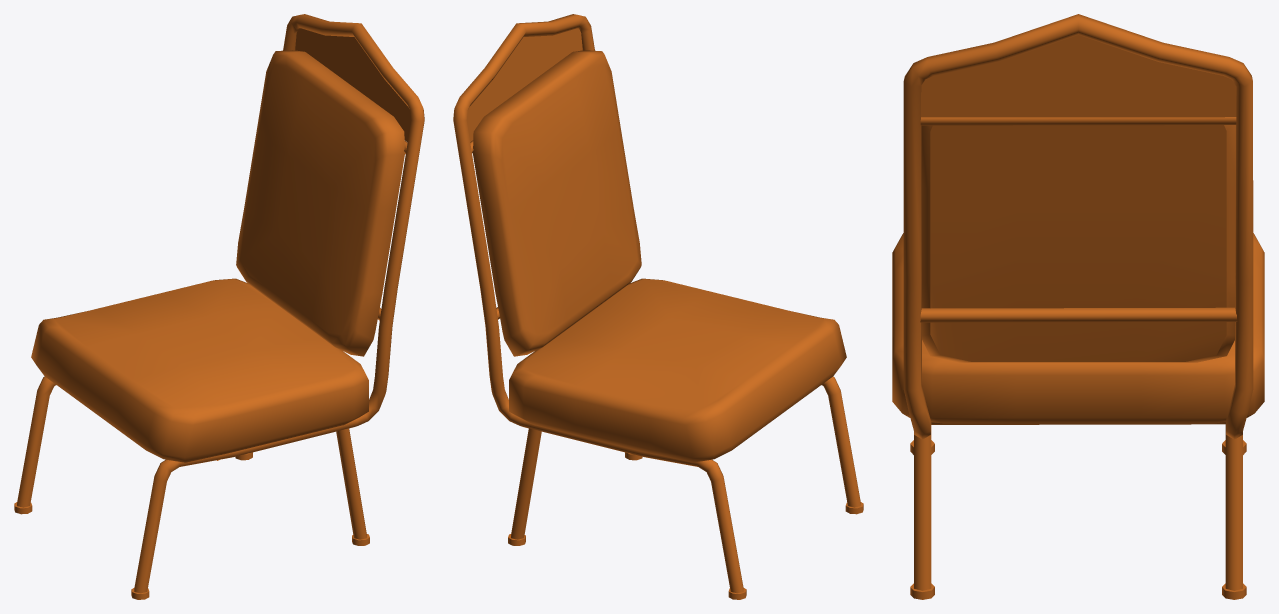
File: vagon chair lod0.FBX
The picture shows the model from 3 angles, left to right: view 1: azimuth 30°, elevation 25°; view 2: azimuth 150°, elevation 25°; view 3: azimuth 270°, elevation 25°; orthographic projection. The views are drawn at different scales.
Parts seen in each view (by area): view 1: Box232; view 2: Box232; view 3: Box232.
Boxes of the visible parts, x1,y1,x2,y2 form: Box232: [14, 14, 424, 599]; Box232: [453, 14, 863, 599]; Box232: [892, 14, 1264, 599].
Bounding box in the file's own units: 0.9009 × 1.37 × 0.75.
